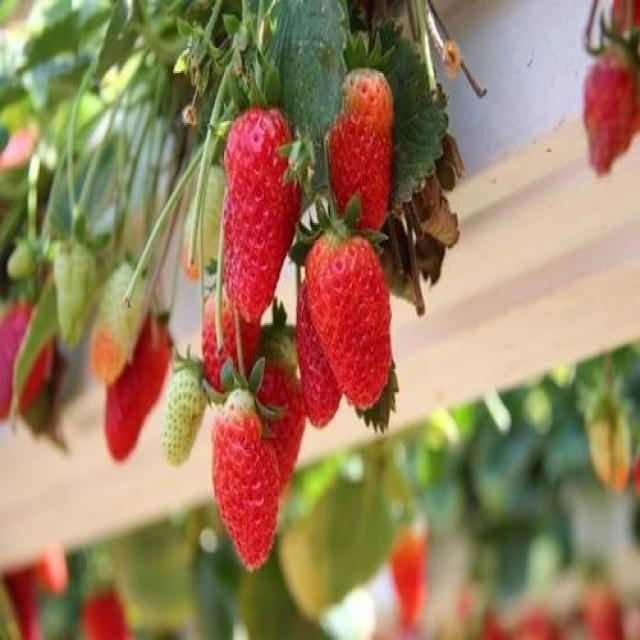Strawberry: (222, 106, 301, 320), (304, 232, 392, 406), (210, 389, 280, 569), (330, 64, 392, 232), (584, 38, 640, 176), (204, 288, 260, 395)
